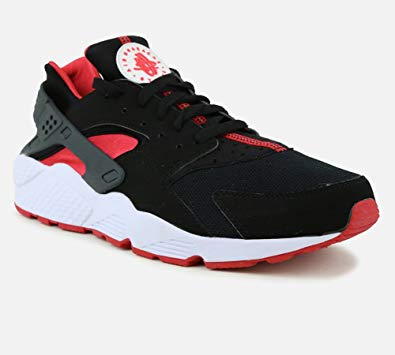Air Huarache Bred: (9, 32, 382, 283)
